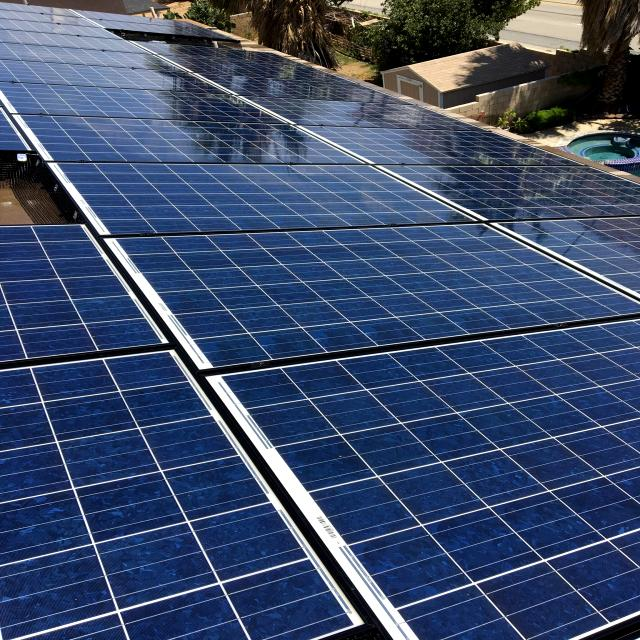crack: (94, 230, 640, 377)
